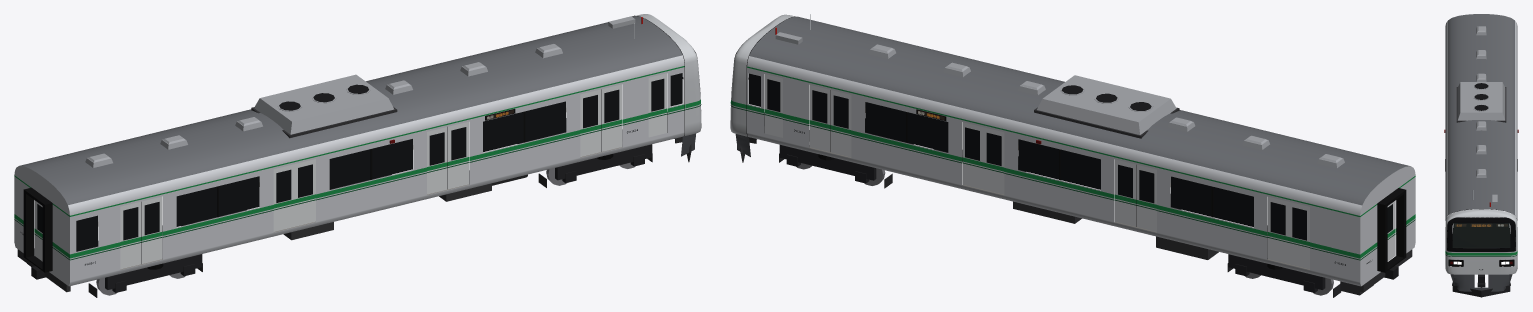
Rendered from r122_Tc_mid.glb.
3 renders of one model, left to right at view 1: azimuth 30°, elevation 25°; view 2: azimuth 150°, elevation 25°; view 3: azimuth 270°, elevation 25°, orthographic. The views are drawn at different scales.
Parts seen in each view (by area): view 1: body_shell, mid_sides, mid_roof_under, opt_ac, mid_front, mid_end_R, roof_vents, door_R4r, door_R2f, door_R3f, door_R3r, door_R4f (+4 smaller); view 2: body_shell, mid_sides, mid_roof_under, opt_ac, mid_front, mid_end_R, roof_vents, door_L1r, door_L2r, door_L1f, door_L2f, door_L3f (+5 smaller); view 3: body_shell, mid_front, opt_ac, roof_vents, opt_snow_plow, mid_roof_under.
Part boxes in pixels (left/top/right/bottom): body_shell: left=14, top=15, right=684, bottom=286; mid_sides: left=76, top=73, right=682, bottom=269; mid_roof_under: left=17, top=16, right=652, bottom=295; opt_ac: left=251, top=74, right=397, bottom=138; mid_front: left=636, top=14, right=701, bottom=156; mid_end_R: left=20, top=187, right=52, bottom=272; roof_vents: left=85, top=44, right=562, bottom=167; door_R4r: left=120, top=201, right=141, bottom=269; door_R2f: left=447, top=121, right=468, bottom=189; door_R3f: left=294, top=159, right=315, bottom=226; door_R3r: left=273, top=164, right=294, bottom=231; door_R4f: left=141, top=196, right=162, bottom=264; body_shell: left=746, top=16, right=1415, bottom=286; mid_sides: left=749, top=73, right=1345, bottom=269; mid_roof_under: left=775, top=14, right=1412, bottom=295; opt_ac: left=1034, top=75, right=1179, bottom=138; mid_front: left=730, top=14, right=795, bottom=156; mid_end_R: left=1366, top=188, right=1406, bottom=272; roof_vents: left=868, top=44, right=1344, bottom=168; door_L1r: left=830, top=90, right=851, bottom=157; door_L2r: left=983, top=127, right=1004, bottom=194; door_L1f: left=809, top=85, right=830, bottom=152; door_L2f: left=962, top=122, right=983, bottom=189; door_L3f: left=1115, top=159, right=1136, bottom=226; body_shell: left=1445, top=14, right=1517, bottom=220; mid_front: left=1445, top=209, right=1517, bottom=291; opt_ac: left=1456, top=82, right=1506, bottom=122; roof_vents: left=1476, top=26, right=1486, bottom=177; opt_snow_plow: left=1452, top=281, right=1510, bottom=297; mid_roof_under: left=1455, top=190, right=1507, bottom=266.
Size of the model in its own units: 20.1 by 4.09 by 3.03.
Materials: 32 (7 with a texture image).
